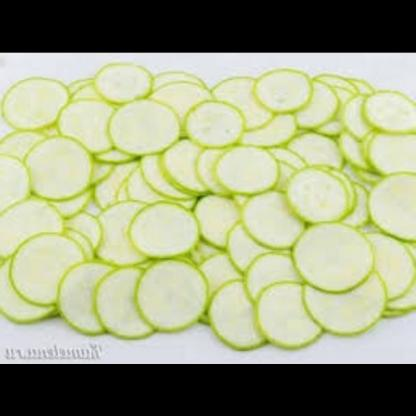vegetable marrow: (0, 52, 412, 363)
